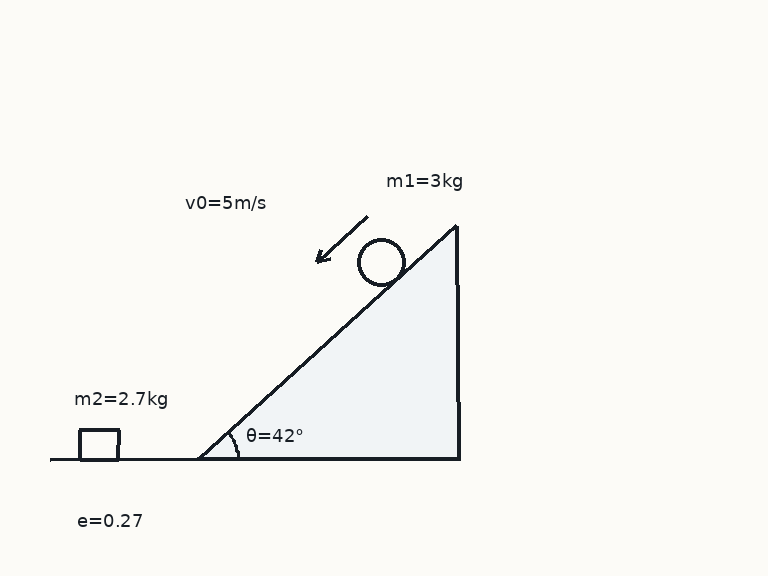ball: (355, 236, 407, 288)
block: (77, 428, 121, 461)
ramp: (196, 224, 459, 461)
